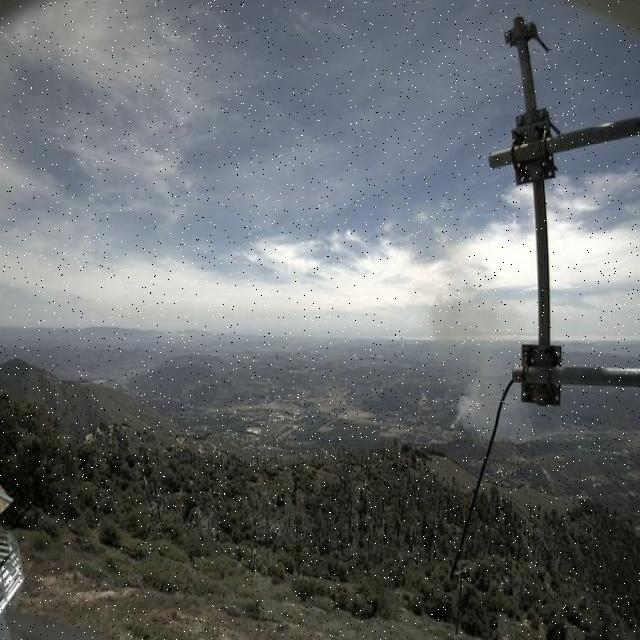smoke: (426, 245, 515, 437)
